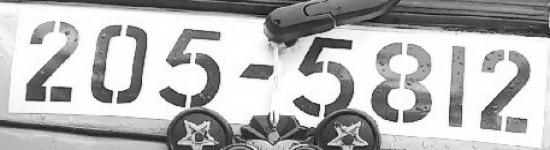-: (236, 57, 279, 86)
0: (87, 21, 152, 109)
1: (443, 42, 467, 132)
2: (475, 43, 537, 138), (20, 14, 80, 106)
5: (159, 20, 231, 111), (292, 35, 356, 117)
8: (371, 39, 436, 124)
